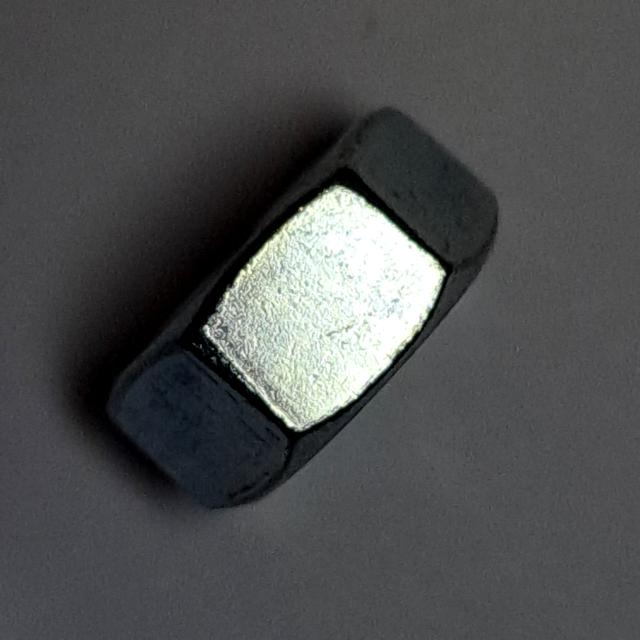Side_Excellent: (94, 96, 508, 523)
